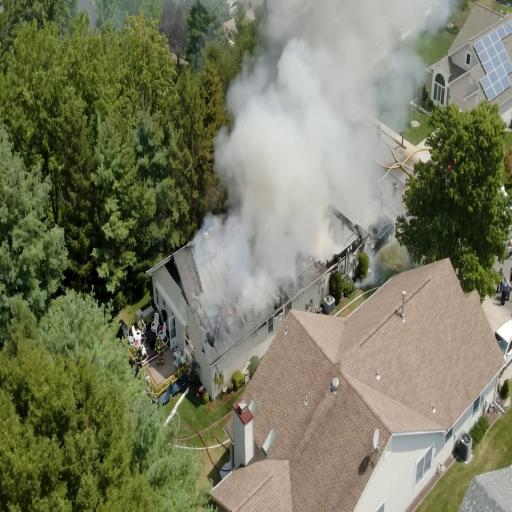smoke: (260, 40, 370, 212), (219, 66, 324, 219)
